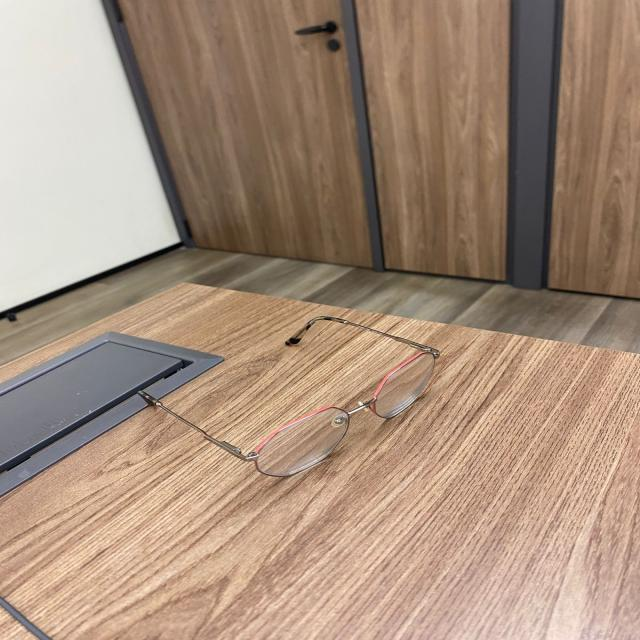sem_oculos: (139, 318, 437, 476)
